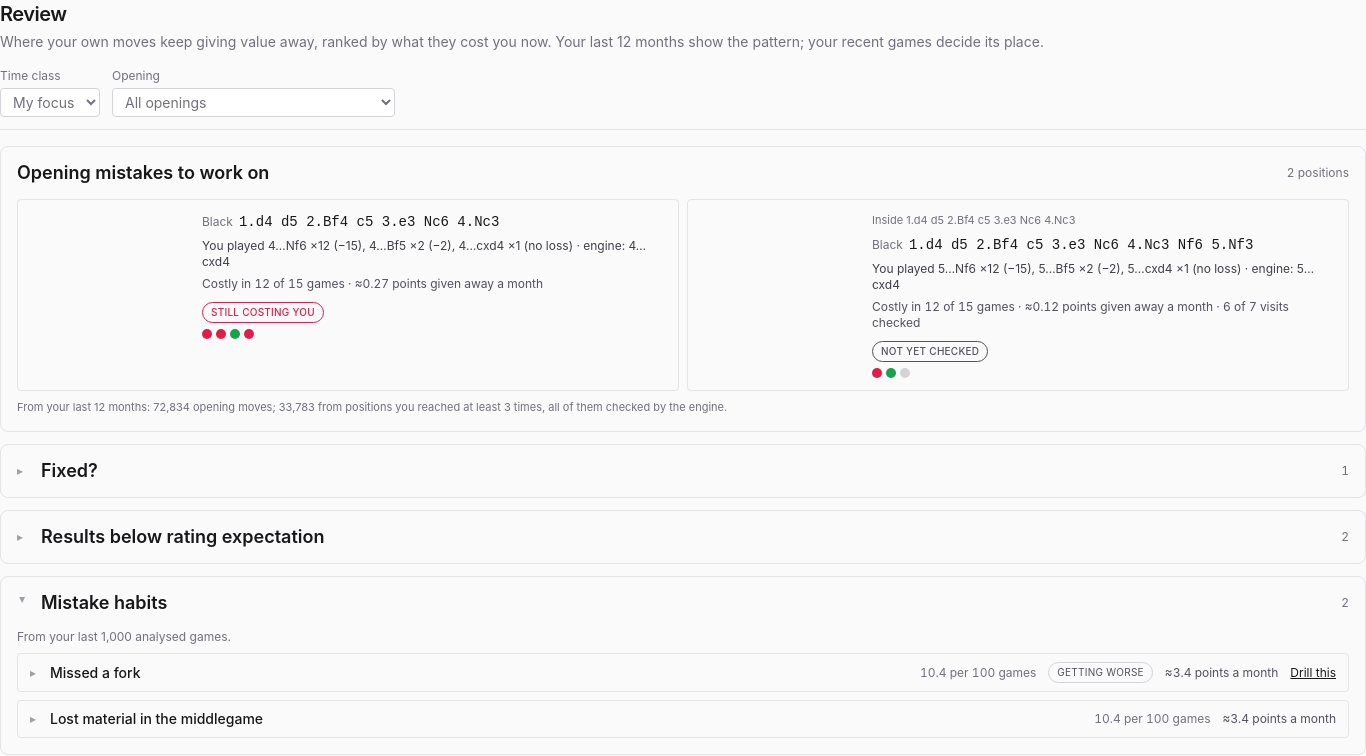
Test: Review page › a habit row shows its rate, trend and cost, links Practice only for a served theme, and expands to its games
Expected: the element with test id "habit" shows "10.4 per 100 games", [17, 653, 1349, 692]
Expected: the element with test id "habit" shows "Getting worse", [1057, 666, 1144, 678]
Click the button "▸ Missed a fork" at [95, 672], box [30, 662, 908, 682]
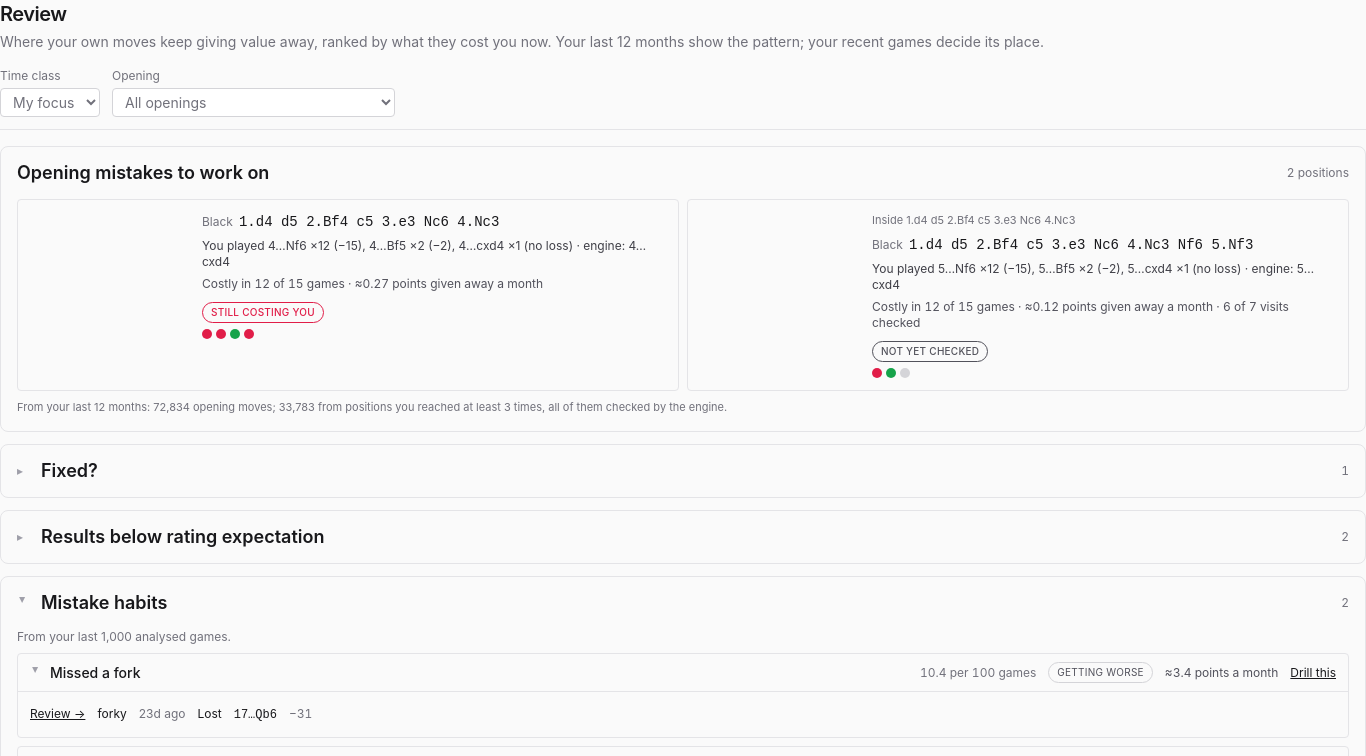
Result: the text "forky" is shown at [97, 706, 127, 722]
